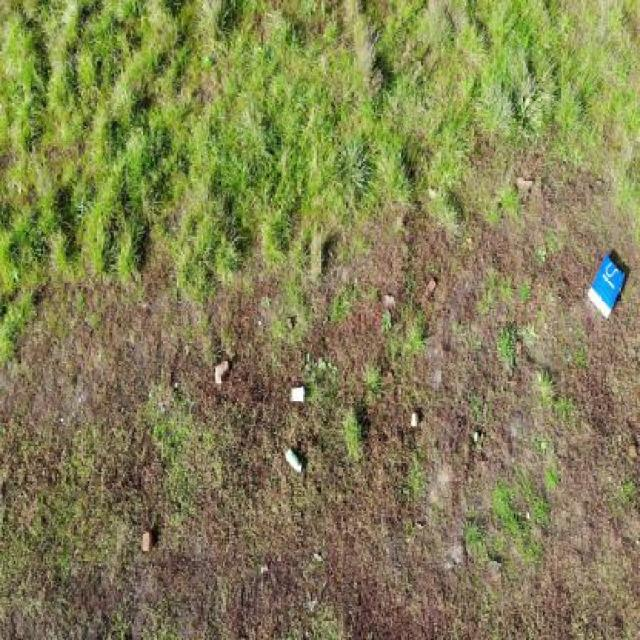Garbage: (585, 251, 625, 322), (284, 448, 304, 475), (290, 385, 304, 403)
